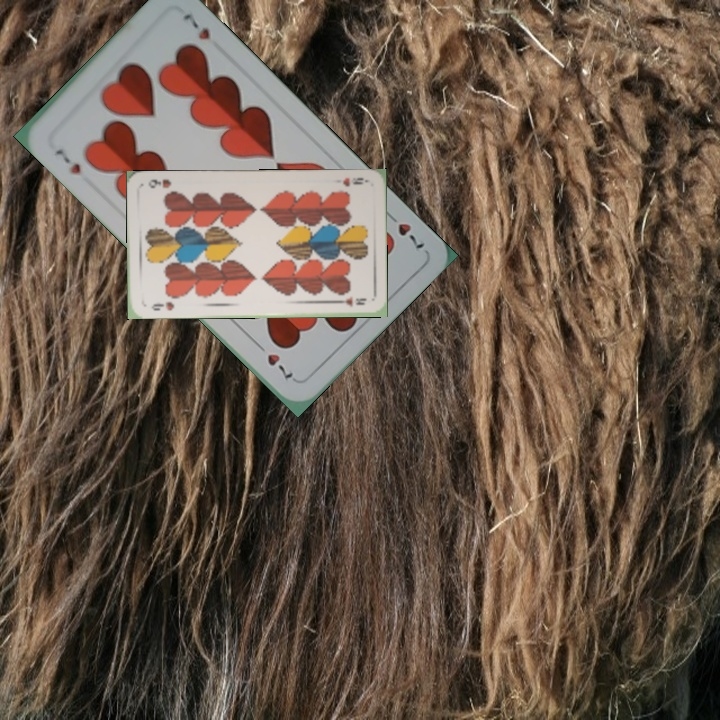H7: (381, 207, 427, 252), (51, 144, 84, 177)
H9: (339, 174, 370, 189), (147, 298, 177, 313)
